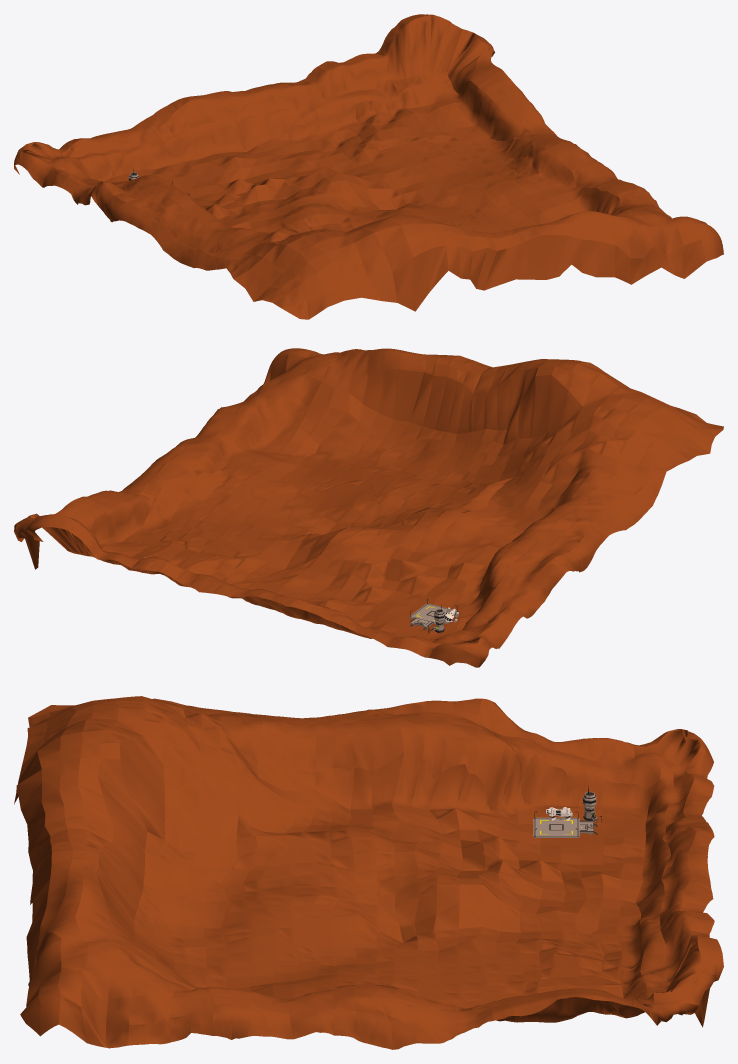
The model's file is Mars.fbx.
3 views of the same model, one above another, from view 1: azimuth 30°, elevation 25°; view 2: azimuth 150°, elevation 25°; view 3: azimuth 270°, elevation 25° (orthographic). The views are drawn at different scales.
Visible parts, largest first — view 1: Plane.004; view 2: Plane.004; view 3: Plane.004.
Boxes of the visible parts, bbox=[...] form: Plane.004: bbox=[14, 14, 723, 319]; Plane.004: bbox=[14, 348, 723, 667]; Plane.004: bbox=[14, 696, 723, 1049].
Bounding box in the file's own units: 9471 × 2074 × 9799.
